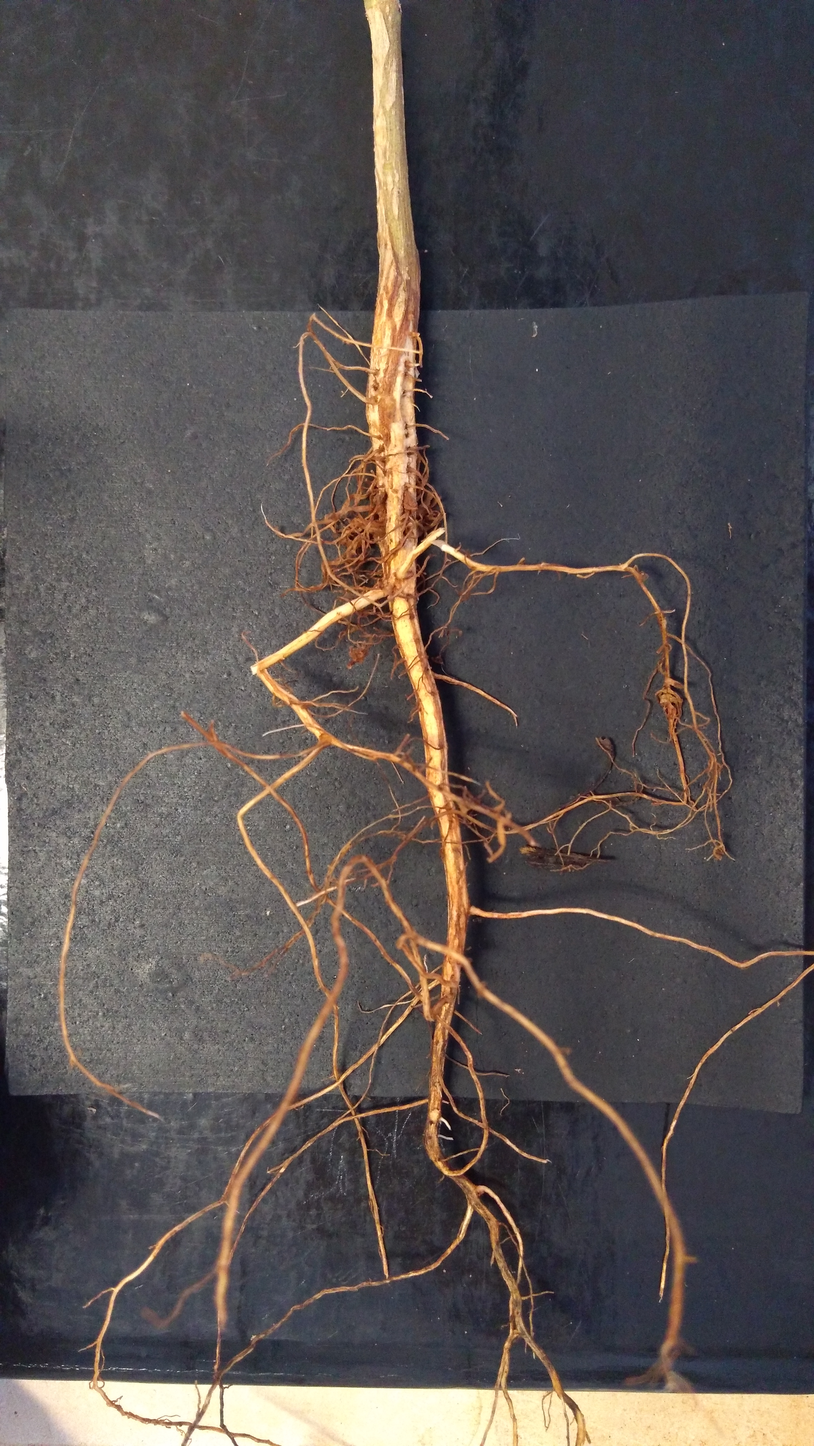nodule: (346, 639, 370, 671), (403, 489, 418, 511), (345, 535, 367, 550), (368, 518, 386, 535), (349, 516, 364, 533), (372, 491, 388, 506), (404, 521, 417, 538), (375, 503, 386, 522), (658, 692, 674, 705), (323, 511, 337, 525), (639, 571, 650, 582), (376, 580, 385, 588)
